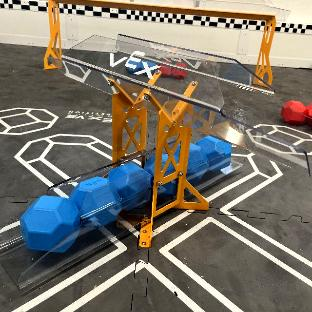Med_goal: (0, 13, 312, 290)
V5_BLUE: (22, 196, 78, 250), (70, 177, 120, 224), (109, 162, 150, 208), (187, 143, 208, 176)
V5_RED: (283, 100, 312, 125)
redingoal: (159, 66, 185, 78)
